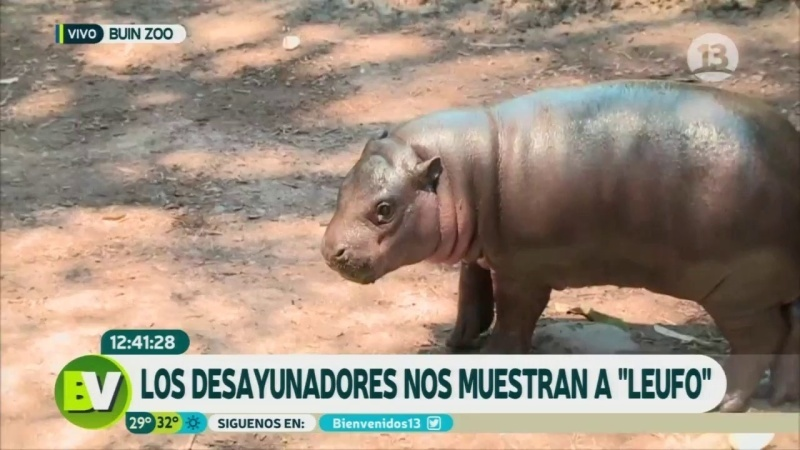hipopotamo: (317, 61, 799, 354)
